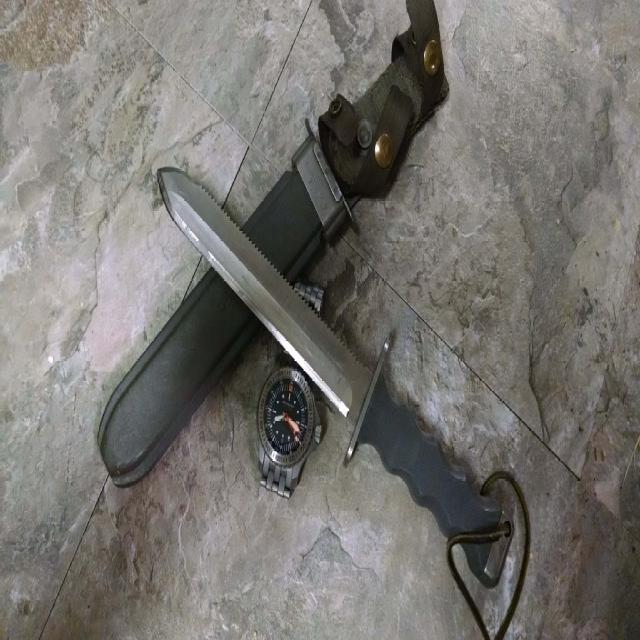knife: (157, 160, 515, 588)
